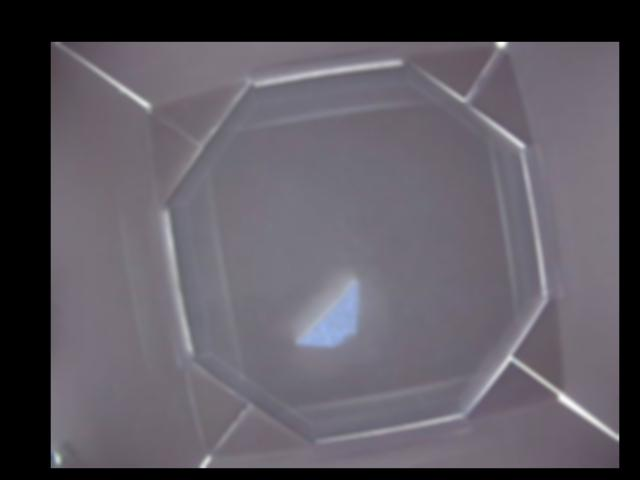China: (298, 276, 359, 348)
